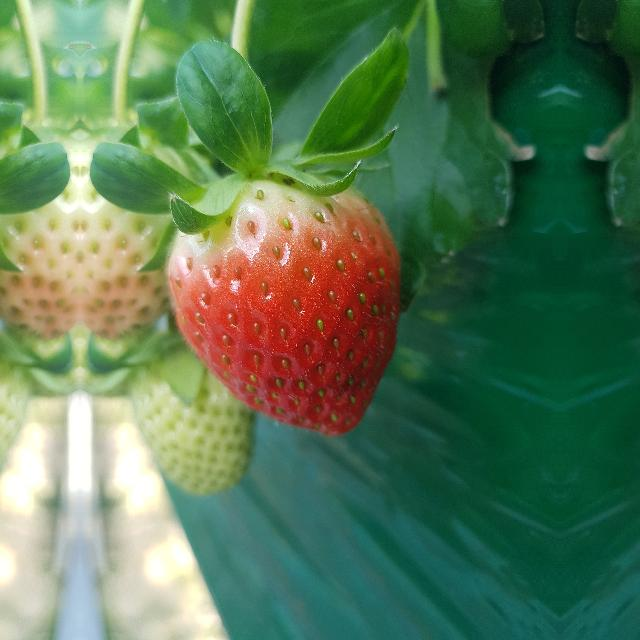Health_75: (164, 168, 400, 438)
